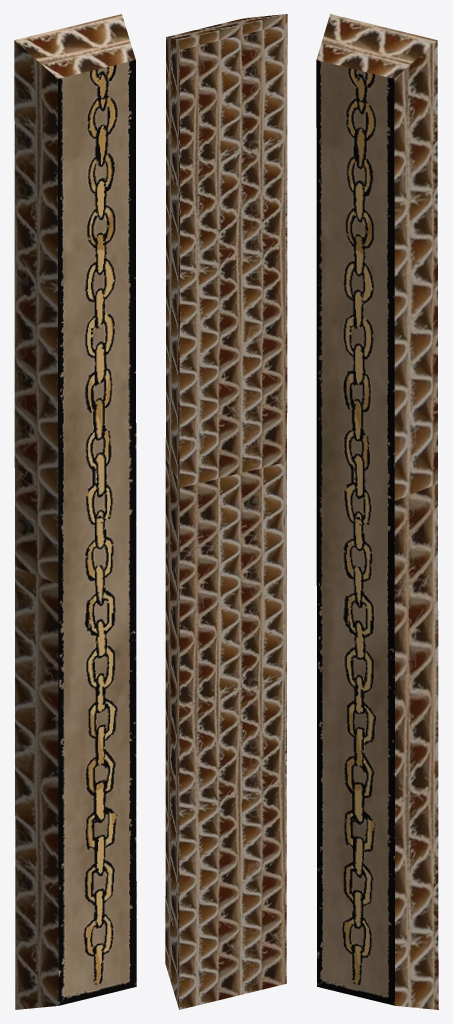
The model's file is chain-2.glb.
3 views of the same model, side by side, from view 1: azimuth 30°, elevation 25°; view 2: azimuth 210°, elevation 25°; view 3: azimuth 330°, elevation 25° (orthographic).
Parts seen in each view (by area): view 1: chain-2; view 2: chain-2; view 3: chain-2.
Boxes of the visible parts, bbox=[...] form: chain-2: bbox=[14, 14, 136, 1009]; chain-2: bbox=[165, 14, 287, 1009]; chain-2: bbox=[316, 14, 438, 1009].
Size of the model in its own units: 0.1131 by 0.967 by 0.0517.
1 material, 1 textured.
